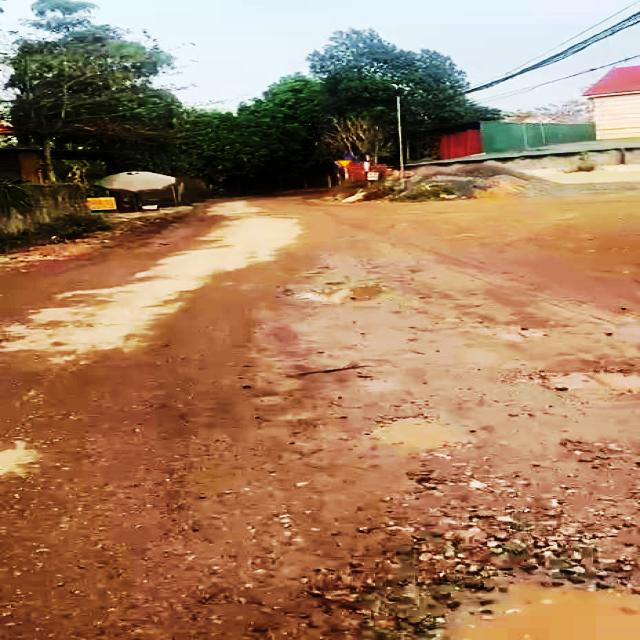pothole: (389, 564, 640, 640), (370, 408, 469, 460), (528, 364, 640, 403)
